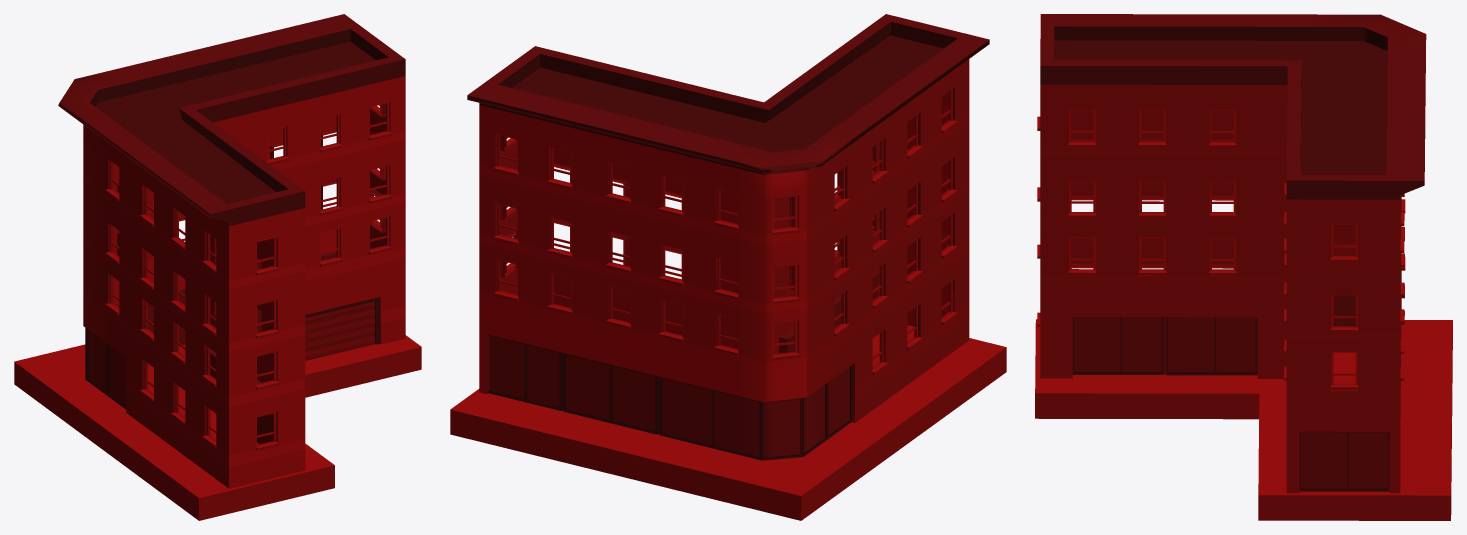
The picture shows the model from 3 angles, left to right: view 1: azimuth 30°, elevation 25°; view 2: azimuth 150°, elevation 25°; view 3: azimuth 270°, elevation 25°; orthographic projection. The views are drawn at different scales.
Visible parts, largest first — view 1: base.077; view 2: base.077; view 3: base.077.
Part boxes in pixels (<box>): base.077: <box>14,14,421,520</box>; base.077: <box>450,14,1006,520</box>; base.077: <box>1035,14,1452,520</box>.
Bounding box in the file's own units: 2311 × 2308 × 2063.
